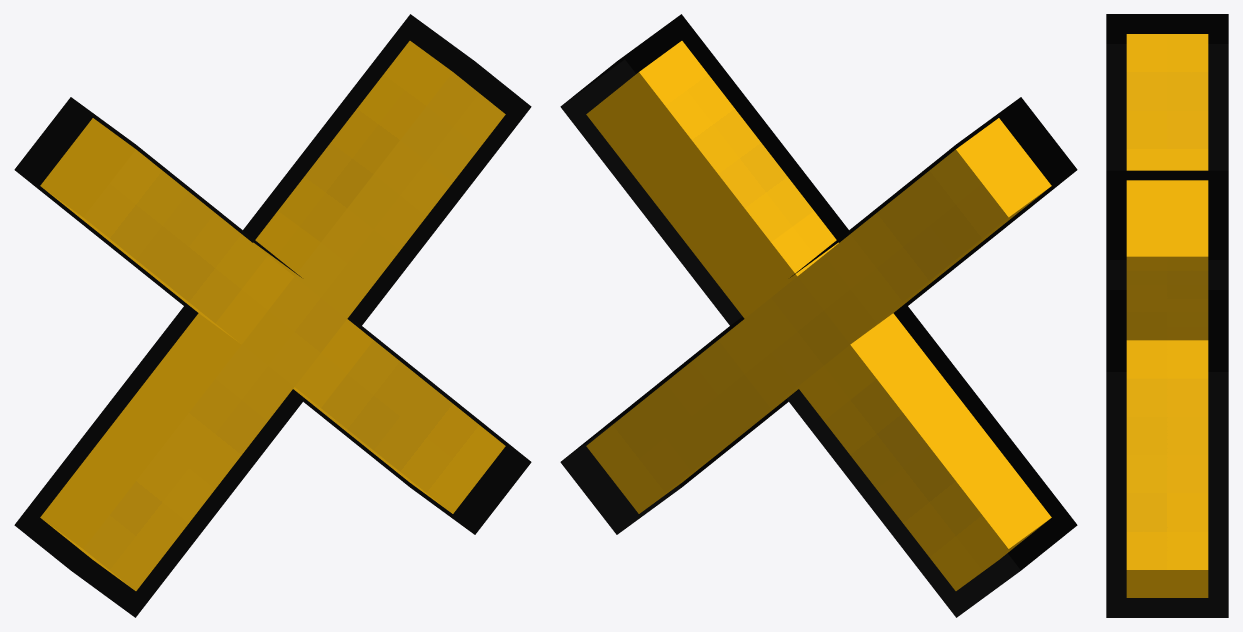
File: cross.fbx
The picture shows the model from 3 angles, left to right: view 1: azimuth 30°, elevation 25°; view 2: azimuth 150°, elevation 25°; view 3: azimuth 270°, elevation 25°; orthographic projection. The views are drawn at different scales.
Parts seen in each view (by area): view 1: IN, Outline; view 2: IN, Outline; view 3: IN, Outline.
Boxes of the visible parts, bbox=[...] form: IN: bbox=[40, 41, 505, 590]; Outline: bbox=[14, 14, 531, 617]; IN: bbox=[586, 41, 1051, 590]; Outline: bbox=[560, 14, 1077, 617]; IN: bbox=[1126, 34, 1208, 597]; Outline: bbox=[1106, 14, 1228, 617].
Bounding box in the file's own units: 75.76 × 75.76 × 18.75.
2 materials, 2 textured.
